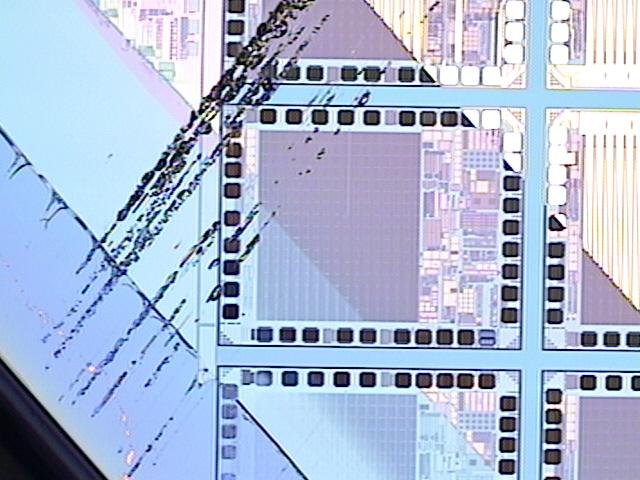SCRATCH: (37, 1, 453, 480)
